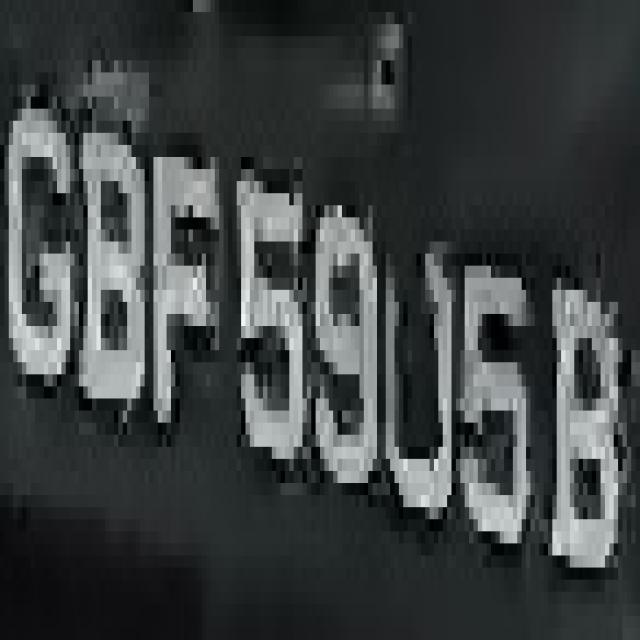0: (368, 206, 452, 532)
5: (223, 157, 307, 471), (452, 230, 530, 556)
9: (294, 193, 381, 495)
B: (539, 242, 627, 568), (61, 97, 145, 434)
F: (149, 109, 224, 446)
G: (9, 97, 79, 410)
